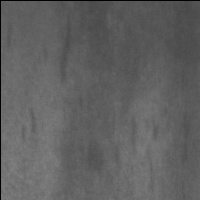inclusion: (138, 111, 165, 195), (54, 9, 79, 87), (172, 98, 194, 171), (24, 98, 41, 141)
